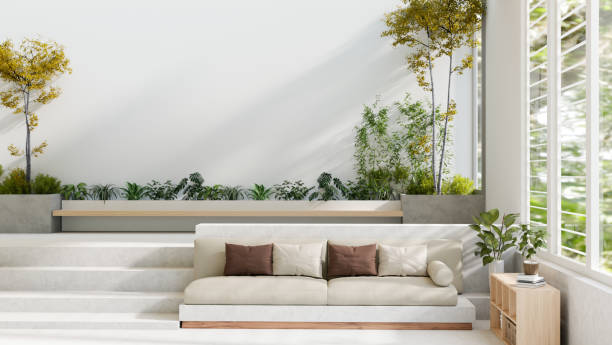large plant: (386, 3, 481, 223), (0, 36, 65, 229)
small plant: (467, 205, 517, 276), (517, 225, 547, 276)
sofa: (176, 238, 478, 331)
